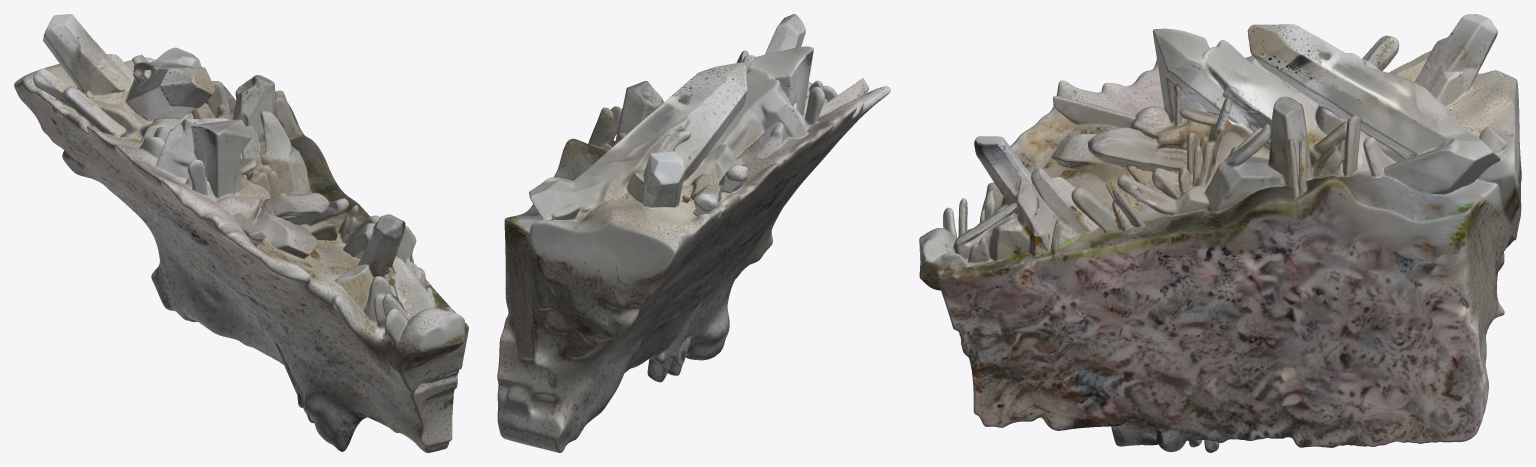
The model's file is cuarzo.glb.
3 views of the same model, side by side, from view 1: azimuth 30°, elevation 25°; view 2: azimuth 150°, elevation 25°; view 3: azimuth 270°, elevation 25° (orthographic). The views are drawn at different scales.
Visible parts, largest first — view 1: tripo_node_f64f0a35-9a77-474b-b7e3-8f9e12a92770; view 2: tripo_node_f64f0a35-9a77-474b-b7e3-8f9e12a92770; view 3: tripo_node_f64f0a35-9a77-474b-b7e3-8f9e12a92770.
Boxes of the visible parts, bbox=[...] form: tripo_node_f64f0a35-9a77-474b-b7e3-8f9e12a92770: bbox=[14, 14, 468, 452]; tripo_node_f64f0a35-9a77-474b-b7e3-8f9e12a92770: bbox=[497, 14, 890, 452]; tripo_node_f64f0a35-9a77-474b-b7e3-8f9e12a92770: bbox=[919, 14, 1521, 452].
Size of the model in its own units: 0.4137 by 0.6877 by 1.
Materials: 1 (1 with a texture image).
